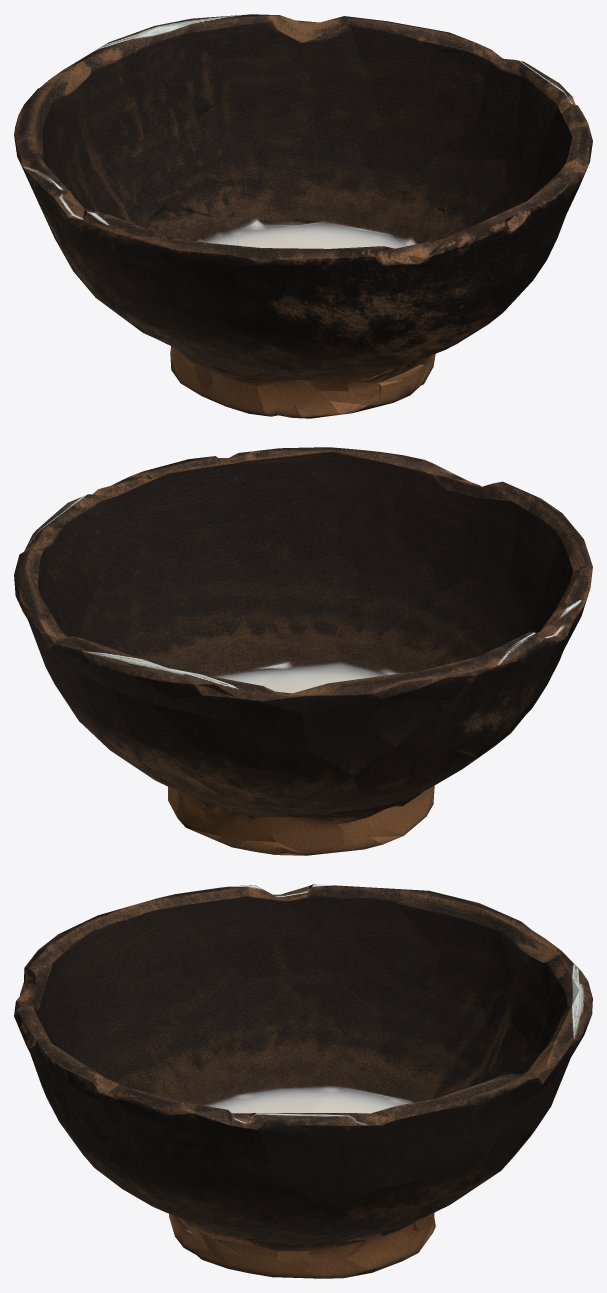
The model's file is cold_cup_meshy_01a1a906.glb.
3 renders of one model, top to bottom at view 1: azimuth 30°, elevation 25°; view 2: azimuth 150°, elevation 25°; view 3: azimuth 270°, elevation 25°, orthographic.
Bounding box in the file's own units: 1.86 × 0.8553 × 1.9.
1 material, 1 textured.
